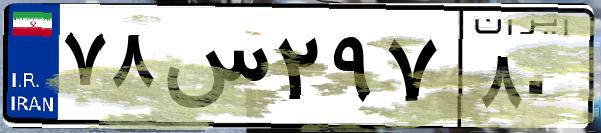0: (525, 38, 570, 115)
2: (270, 28, 330, 110)
7: (385, 28, 445, 110), (57, 26, 110, 100)
8: (475, 38, 525, 113), (110, 28, 158, 98)
9: (330, 28, 385, 110)
س: (158, 20, 270, 120)
